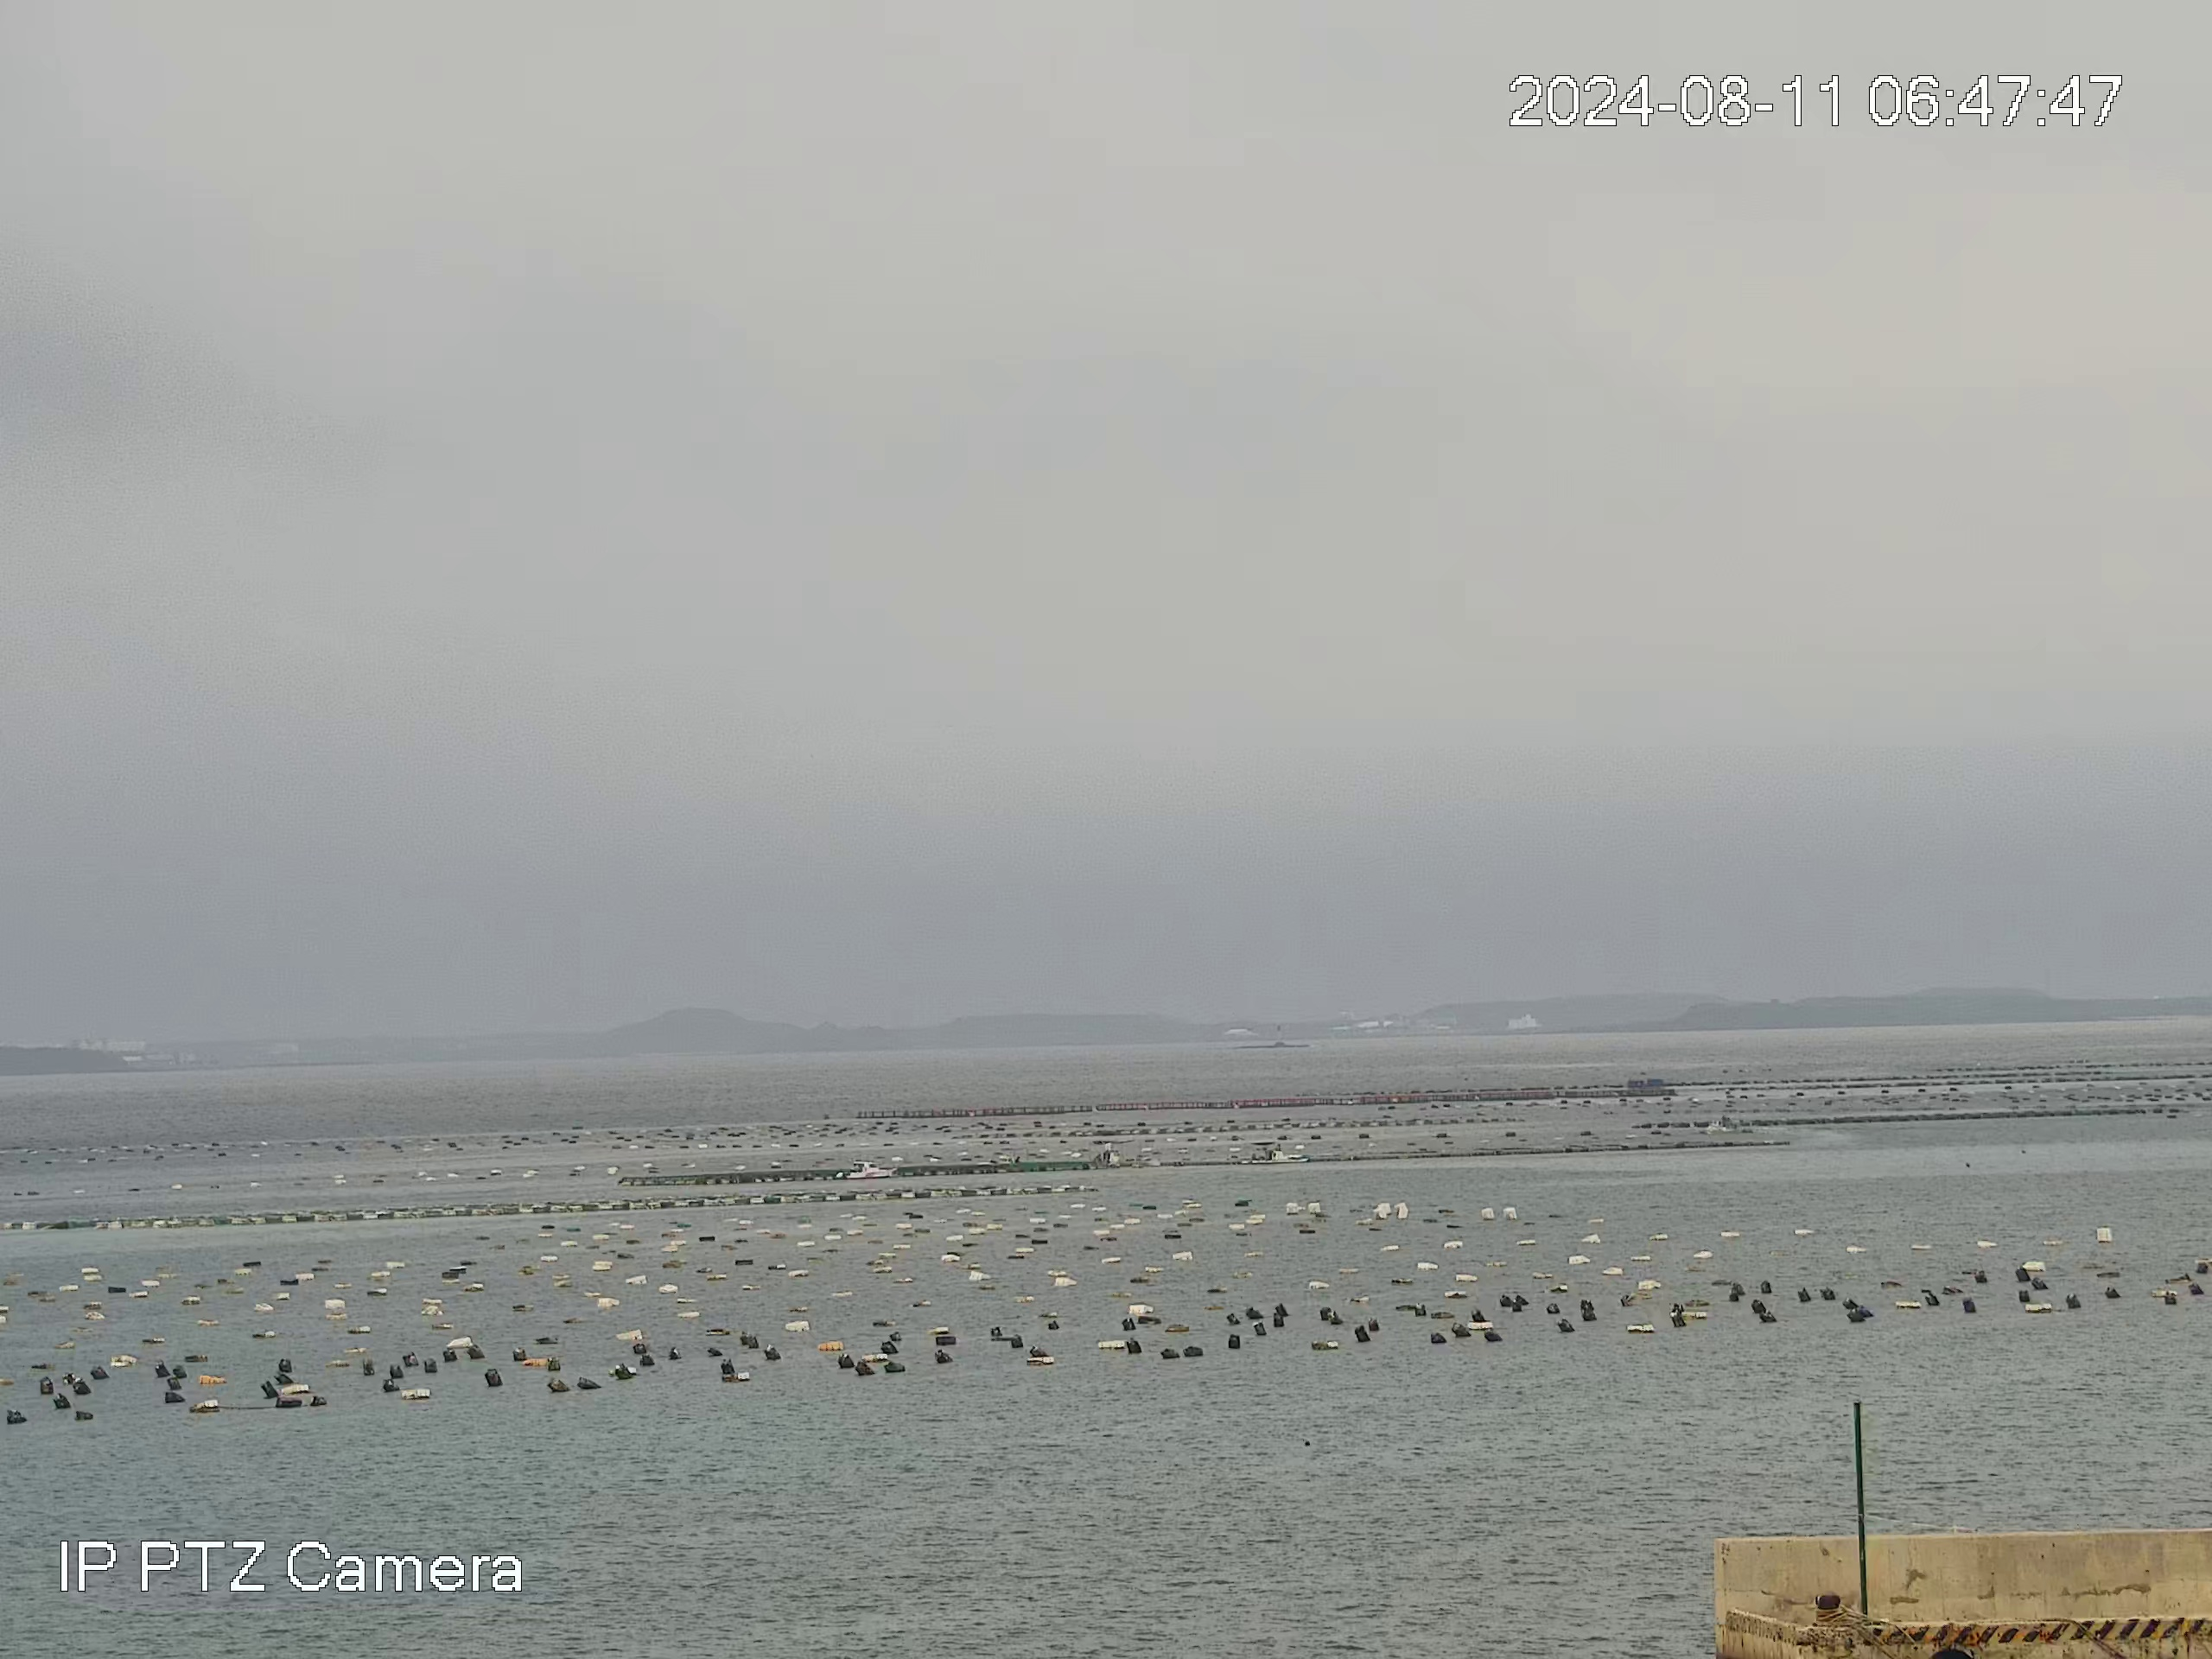boat: (1245, 1140, 1310, 1166), (833, 1159, 895, 1182)
